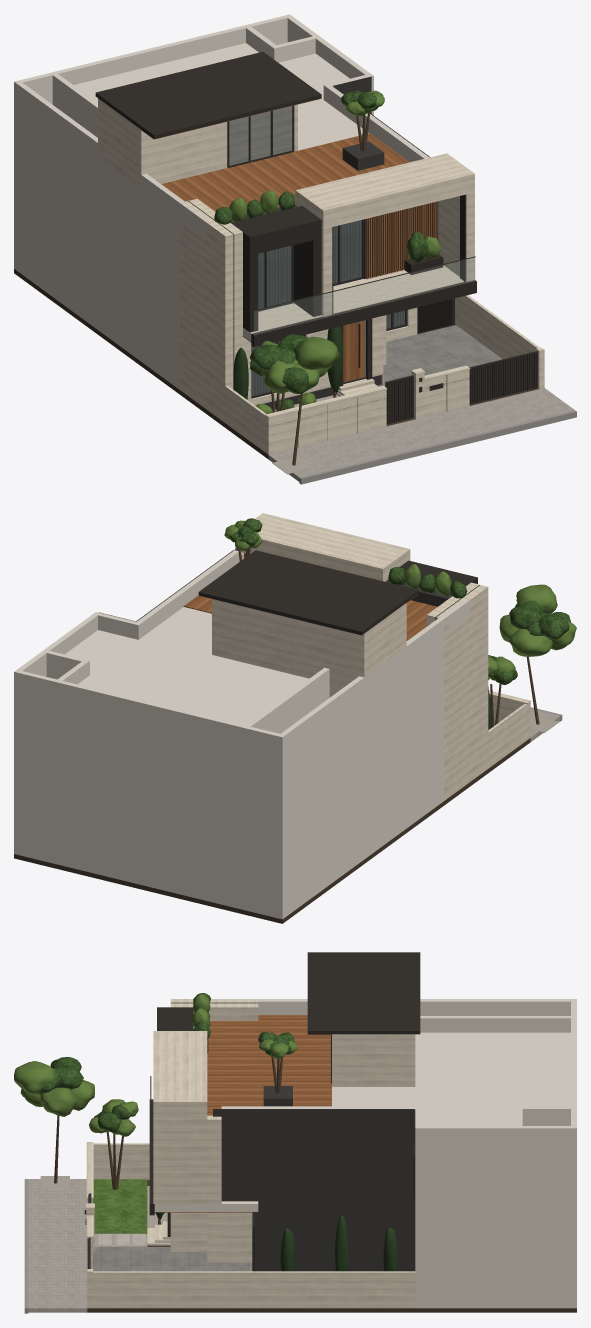
File: Villa_G153_House.dae
The picture shows the model from 3 angles, top to bottom: view 1: azimuth 30°, elevation 25°; view 2: azimuth 150°, elevation 25°; view 3: azimuth 270°, elevation 25°; orthographic projection. The views are drawn at different scales.
Parts seen in each view (by area): view 1: Massing - House Body, Roof - Stair Pavilion (×3), Massing - Parapets & Light Wells, Travertine C-Frame - Bedroom 112 (×2), Boundary Wall - Travertine Panels, Left Pier - Travertine with Shadow Groove, Sidewalk (×2), Roof - Terrace, Planters & Tree (×4), Balconies - Floor & Frameless Glass (×2), Dark Bronze Box Frame - Bedroom 111 (×2), Bedroom 112 Facade - Glass + Fluted Teak (×3), Driveway & Side Yard (+12 smaller); view 2: Massing - House Body, Roof - Stair Pavilion (×2), Massing - Parapets & Light Wells, Left Pier - Travertine with Shadow Groove, Travertine C-Frame - Bedroom 112, Street Tree (×2), Roof - Terrace, Planters & Tree (×3), Plot Base, Boundary Wall - Travertine Panels, Dark Bronze Box Frame - Bedroom 111; view 3: Massing - House Body, Side Yard - Charcoal Slot, Boundary Wall - Travertine Panels, Roof - Stair Pavilion (×2), Roof - Terrace, Planters & Tree (×4), Massing - Parapets & Light Wells, Travertine C-Frame - Bedroom 112, Sidewalk (×2), Front Garden (×6), Driveway & Side Yard (×2), Street Tree (×2), Plot Base (+7 smaller).
Part boxes in pixels (x1,y1,x2,y2): Massing - House Body: (14,33,373,389); Roof - Stair Pavilion (×3): (95,52,321,189); Massing - Parapets & Light Wells: (14,14,429,236); Travertine C-Frame - Bedroom 112 (×2): (295,153,474,316); Boundary Wall - Travertine Panels: (225,295,544,454); Left Pier - Travertine with Shadow Groove: (180,198,242,422); Sidewalk (×2): (268,388,576,484); Roof - Terrace, Planters & Tree (×4): (161,90,409,224); Balconies - Floor & Frameless Glass (×2): (243,257,475,334); Dark Bronze Box Frame - Bedroom 111 (×2): (231,206,321,332); Bedroom 112 Facade - Glass + Fluted Teak (×3): (333,201,438,284); Driveway & Side Yard: (377,325,502,386); Massing - House Body: (14,607,443,919); Roof - Stair Pavilion (×2): (198,550,418,691); Massing - Parapets & Light Wells: (14,550,469,751); Left Pier - Travertine with Shadow Groove: (426,582,488,800); Travertine C-Frame - Bedroom 112: (235,513,410,581); Street Tree (×2): (499,584,576,656); Roof - Terrace, Planters & Tree (×3): (183,518,467,640); Plot Base: (14,738,530,923); Boundary Wall - Travertine Panels: (488,690,530,768); Dark Bronze Box Frame - Bedroom 111: (400,560,477,585); Massing - House Body: (332,1032,576,1308); Side Yard - Charcoal Slot: (213,1109,415,1271); Boundary Wall - Travertine Panels: (86,1142,415,1308); Roof - Stair Pavilion (×2): (307,952,420,1086); Roof - Terrace, Planters & Tree (×4): (192,993,331,1115); Massing - Parapets & Light Wells: (210,999,576,1142); Travertine C-Frame - Bedroom 112: (153,1031,221,1203); Sidewalk (×2): (24,1179,87,1313); Front Garden (×6): (89,1099,167,1246); Driveway & Side Yard (×2): (93,1215,398,1271); Street Tree (×2): (14,1057,94,1116); Plot Base: (87,1180,576,1312).
Bounding box in the file's own units: 13.65 × 22.99 × 10.91.
Materials: 24 (11 with a texture image).
